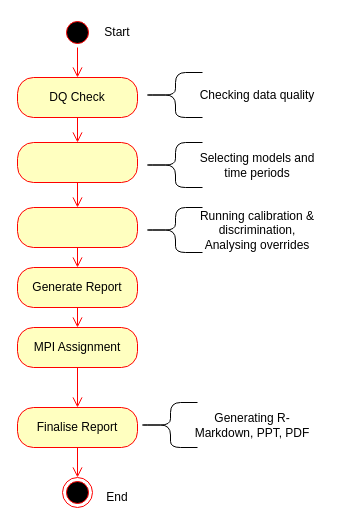
Some shapes in this 340 by 525 pixel diagram are drawn without their labels. Here are the shapes that lost their labels. From the top down, the centre of each, then its label:
At point 77,162: "Model Selection".
At point 77,227: "Run Analysis".
